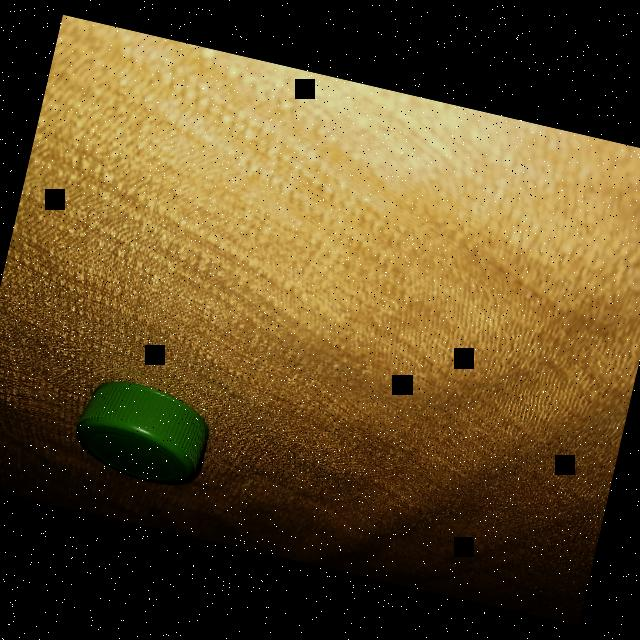plastic_bottle_cap: (66, 371, 216, 492)
